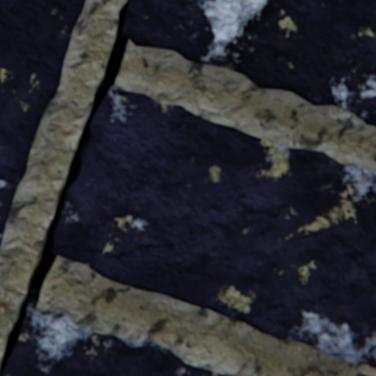brick: (54, 87, 375, 366), (123, 0, 375, 125), (0, 0, 85, 245), (1, 305, 225, 375)
crack: (0, 0, 128, 375), (137, 243, 174, 249), (110, 248, 135, 256), (65, 244, 87, 250), (89, 249, 102, 253)
